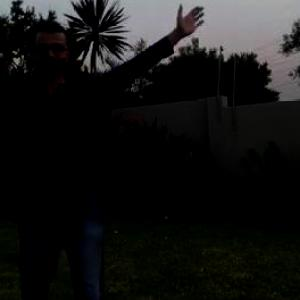takeoff: (1, 9, 165, 299)
